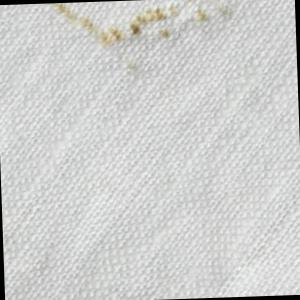Oil Stain: (45, 1, 242, 78)
